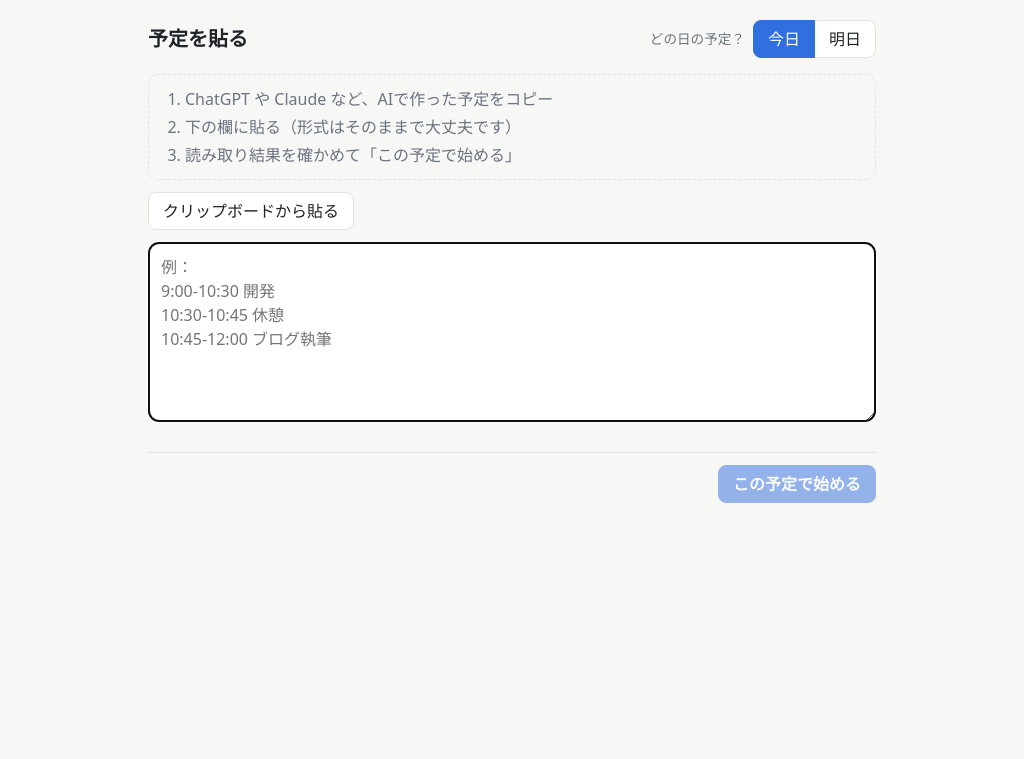
Scenario: 1日の流れ › 開始・完了は押した時刻で記録し、遅れた分だけ終了見込みを後ろにずらす
The width and height of the screenshot is (1024, 759).
In the text box named "予定のテキスト": (512,332) [148,242,876,422], type "時間 内容 9:00–10:30 開発①（1.5h） 10:30–10:45 休憩 10:45–12:15 開発②（1.5h） 12:15–13:15 ランニング（60分） 13:15–14:15 シャワー・昼食 14:15–15:45 Notion × Discord連携①（1.5h） 15:45–16:00 休憩 16:00–17:00 Notion × Discord連携②（1h） 17:0"
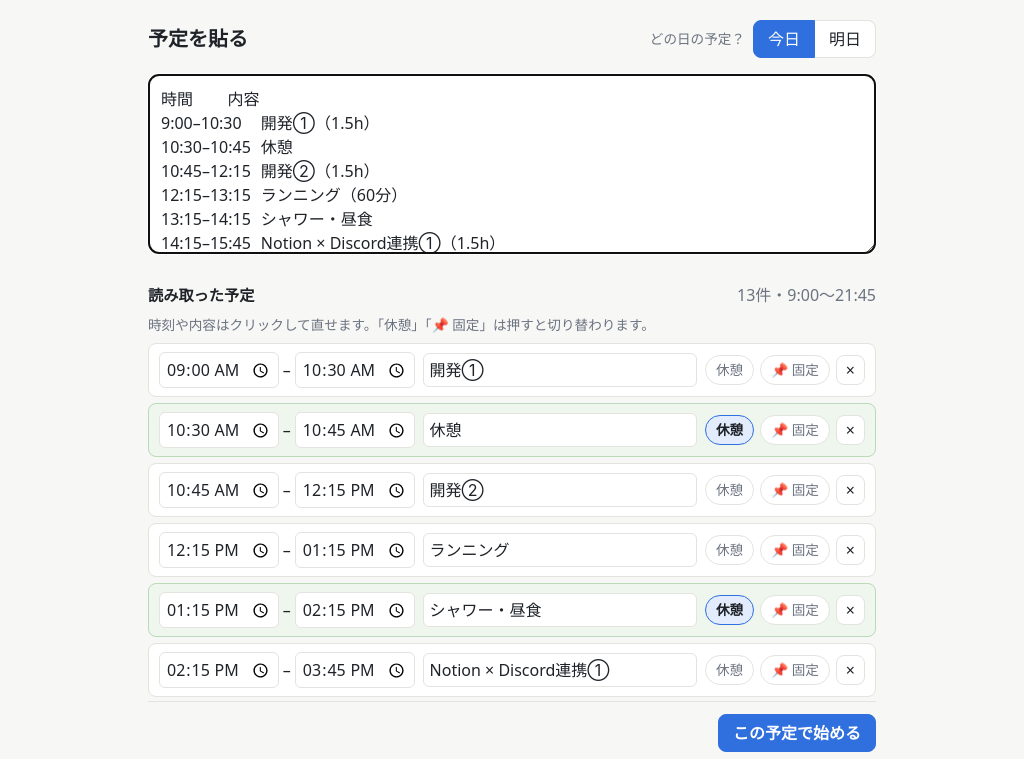
Click the button "この予定で始める": (797,733) [718,714,876,752]
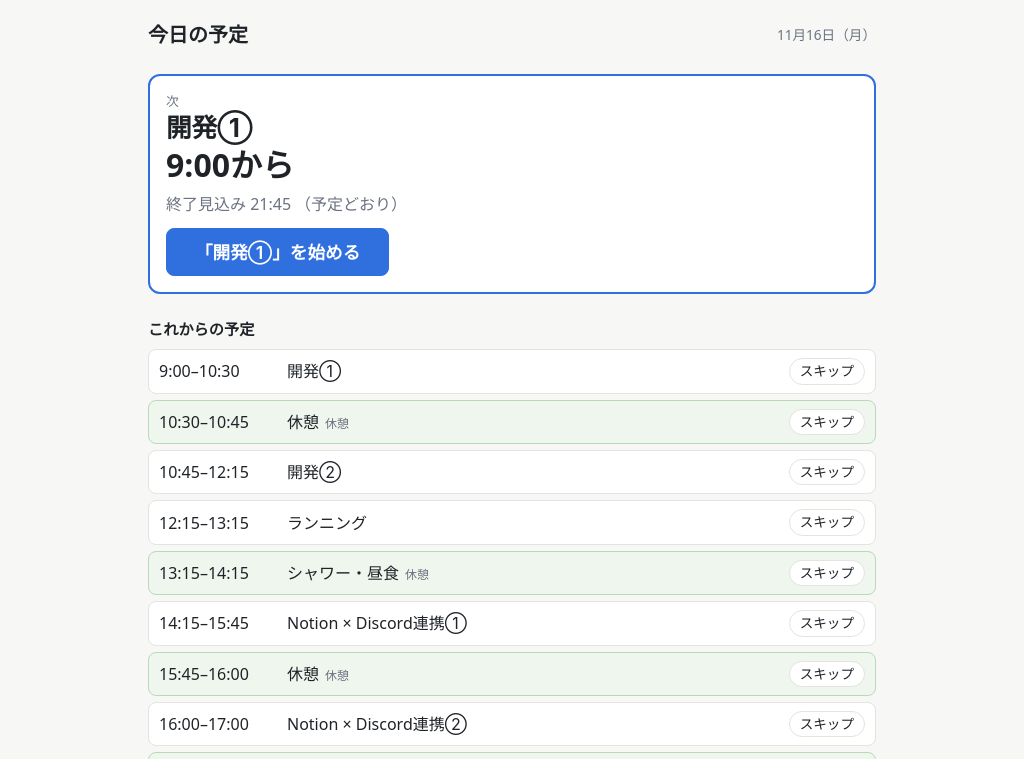
Click the button "「開発①」を始める": (278,252) [166,228,389,276]
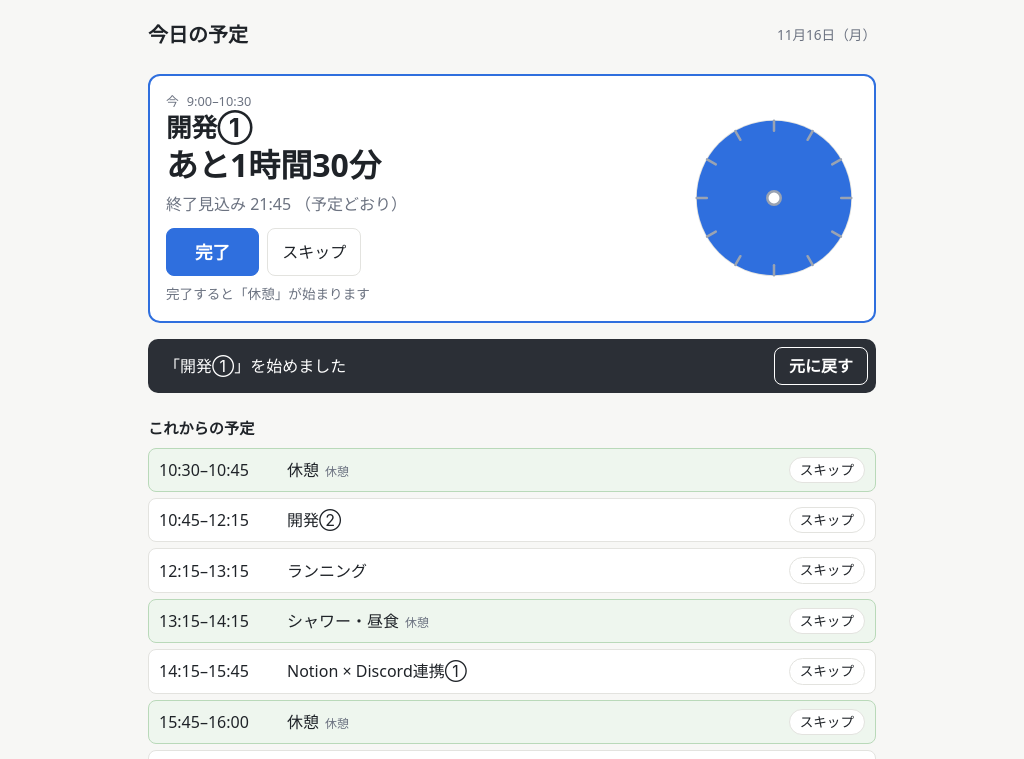
Expected: the text "あと1時間30分" is shown, [166,144,381,186]
Click the button "完了": (213,252) [166,228,259,276]
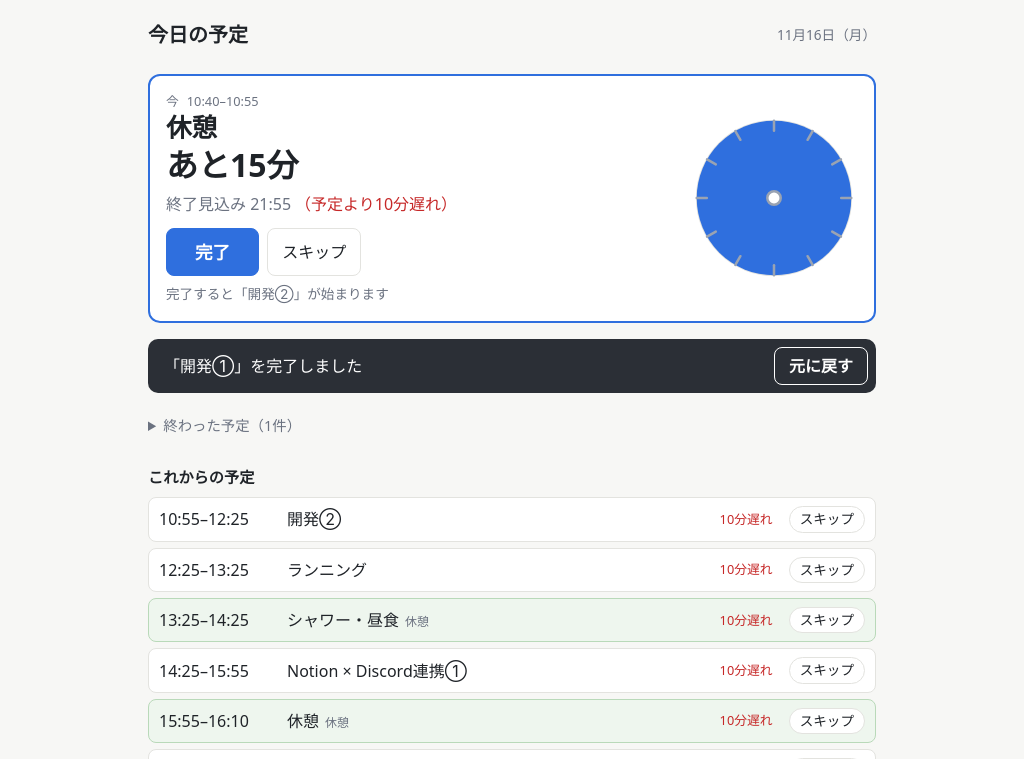
Expected: the text "あと15分" is shown, [166,144,299,186]
Expected: the text "終了見込み 21:55" is shown, [166,193,291,215]
